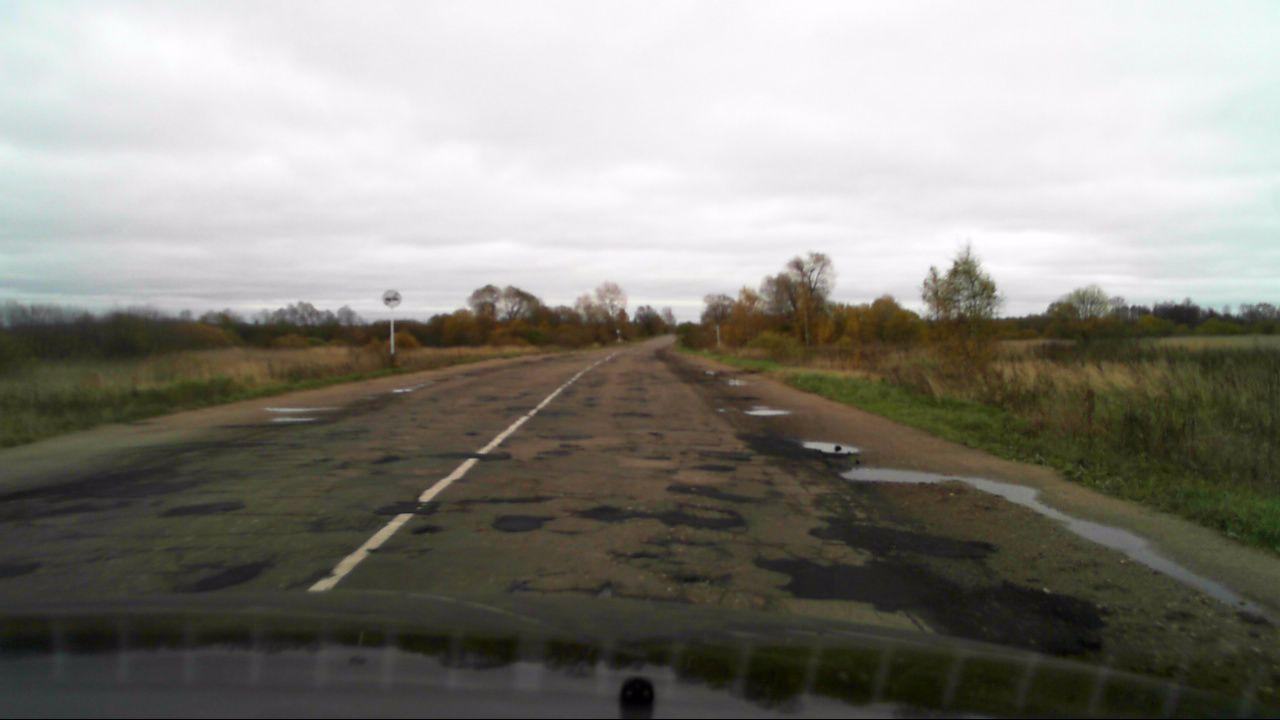3_21: (382, 290, 403, 309)
